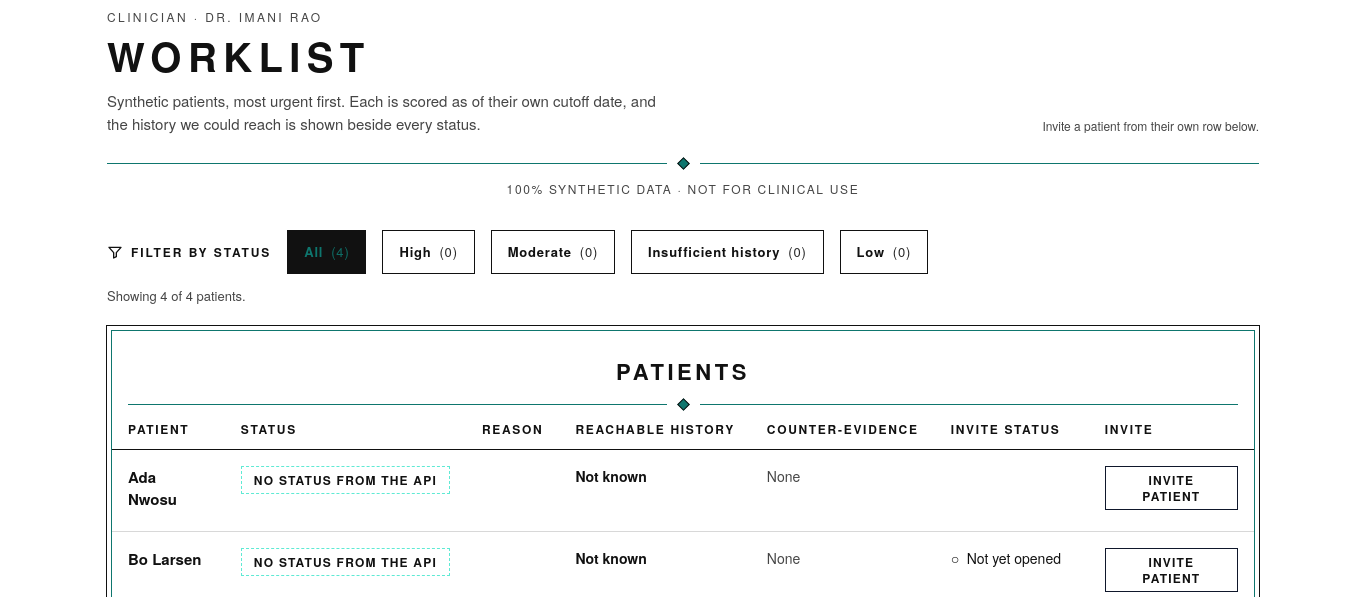
Test case: Worklist invite status › [AC-084] closing the dialog removes the link and it is not re-fetchable from the UI
This screenshot has width=1366, height=597.
Expected: the button "Ada Nwosu" is shown, left=128, top=466, right=209, bottom=510
Click the button with aria-label "Invite patient Ada Nwosu". click: x=1171, y=488
box: left=1105, top=466, right=1238, bottom=510
(page scrolled)
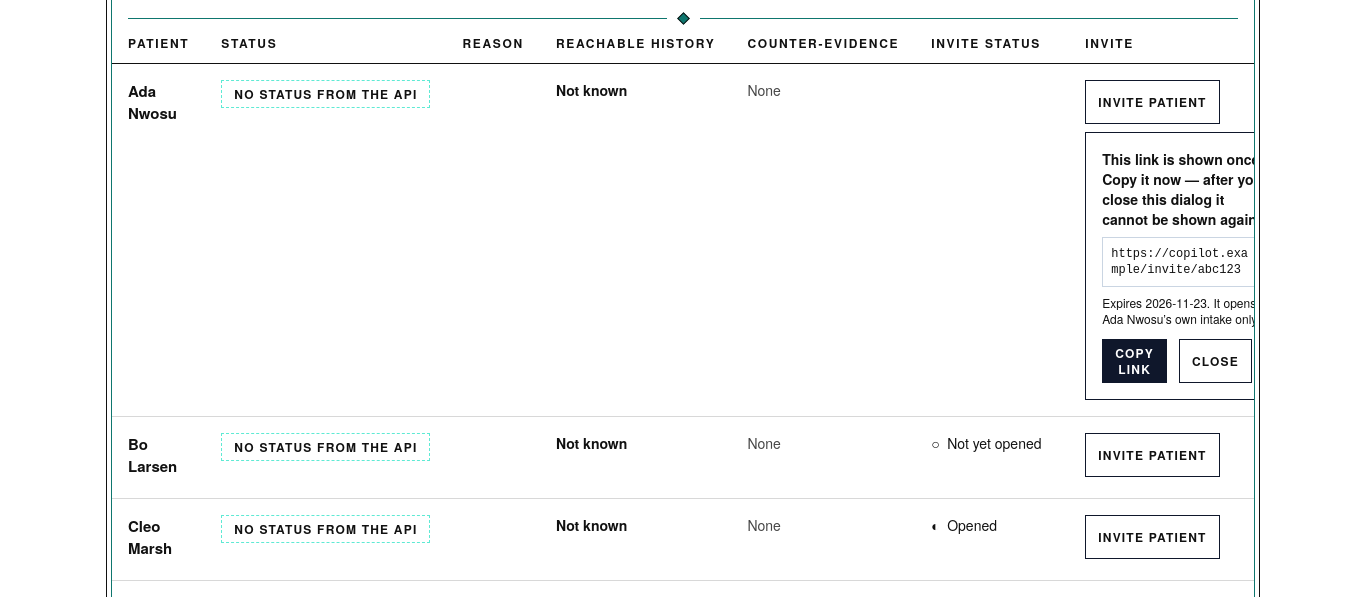
Click the button "Close". click: x=1216, y=360
box: left=1179, top=338, right=1252, bottom=382
(page scrolled)
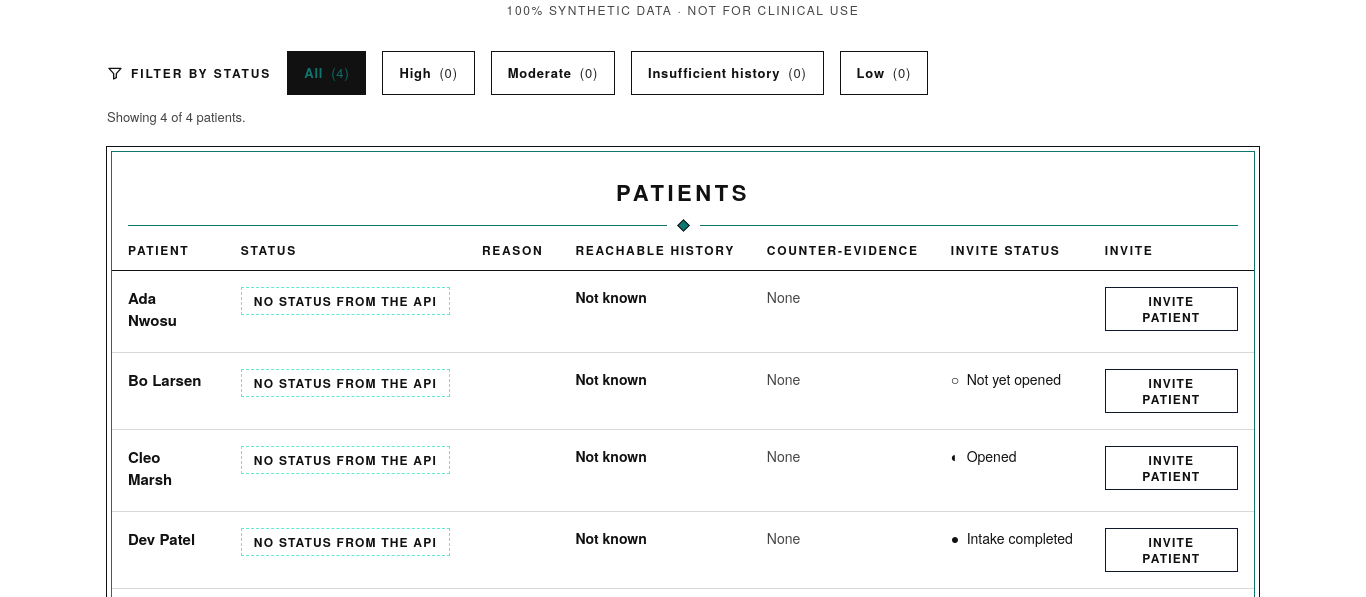
Result: the text with test id "invite-url" is gone
Result: the text "https://copilot.example/invite/abc123" is gone
